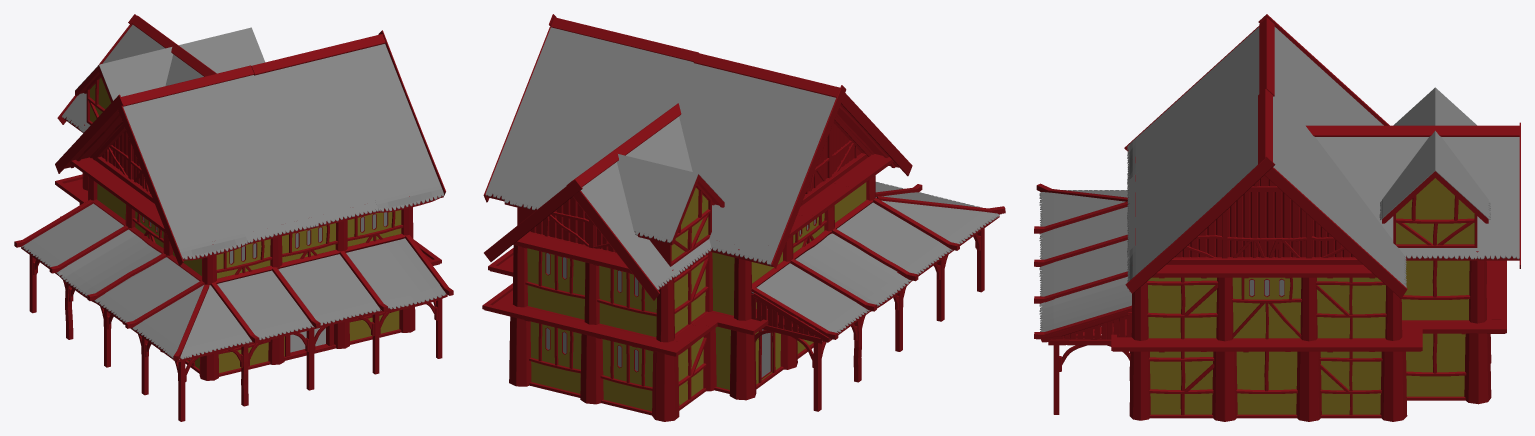
The model's file is SM_MH_01_House_01.fbx.
The picture shows the model from 3 angles, left to right: view 1: azimuth 30°, elevation 25°; view 2: azimuth 150°, elevation 25°; view 3: azimuth 270°, elevation 25°; orthographic projection. The views are drawn at different scales.
Visible parts, largest first — view 1: SM_MH_01_House_01_LOD0, SM_MH_01_House_01_Windows; view 2: SM_MH_01_House_01_LOD0, SM_MH_01_House_01_Windows; view 3: SM_MH_01_House_01_LOD0.
Boxes of the visible parts, left/top/right/bottom form: SM_MH_01_House_01_LOD0: left=14, top=14, right=453, bottom=421; SM_MH_01_House_01_Windows: left=143, top=212, right=387, bottom=359; SM_MH_01_House_01_LOD0: left=482, top=14, right=1005, bottom=421; SM_MH_01_House_01_Windows: left=546, top=219, right=815, bottom=377; SM_MH_01_House_01_LOD0: left=1034, top=14, right=1520, bottom=421.
Size of what is drawn, in the model's own units: 1435 by 1091 by 1735.
